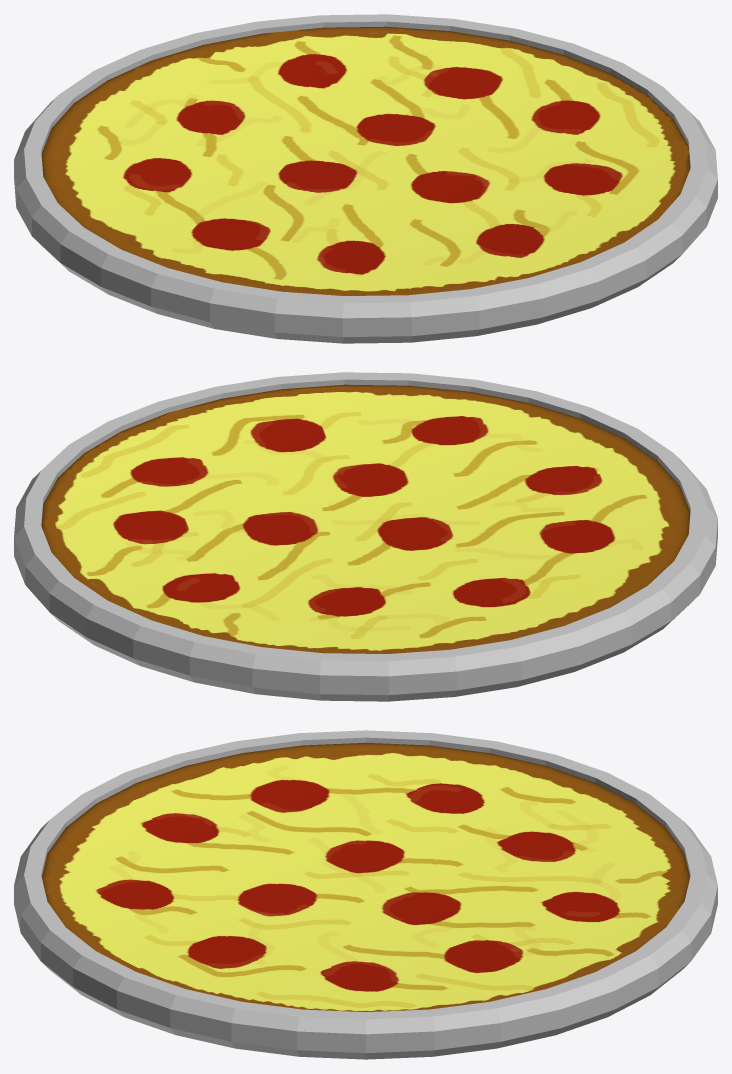
File: pizza.dae
3 views of the same model, one above another, from view 1: azimuth 30°, elevation 25°; view 2: azimuth 150°, elevation 25°; view 3: azimuth 270°, elevation 25° (orthographic).
Visible parts, largest first — view 1: Pizza; view 2: Pizza; view 3: Pizza.
Part boxes in pixels (x1,y1,x2,y2): Pizza: (14,14,717,343); Pizza: (14,372,717,701); Pizza: (14,730,717,1059).
Bounding box in the file's own units: 2.06 × 2.06 × 0.1297.
